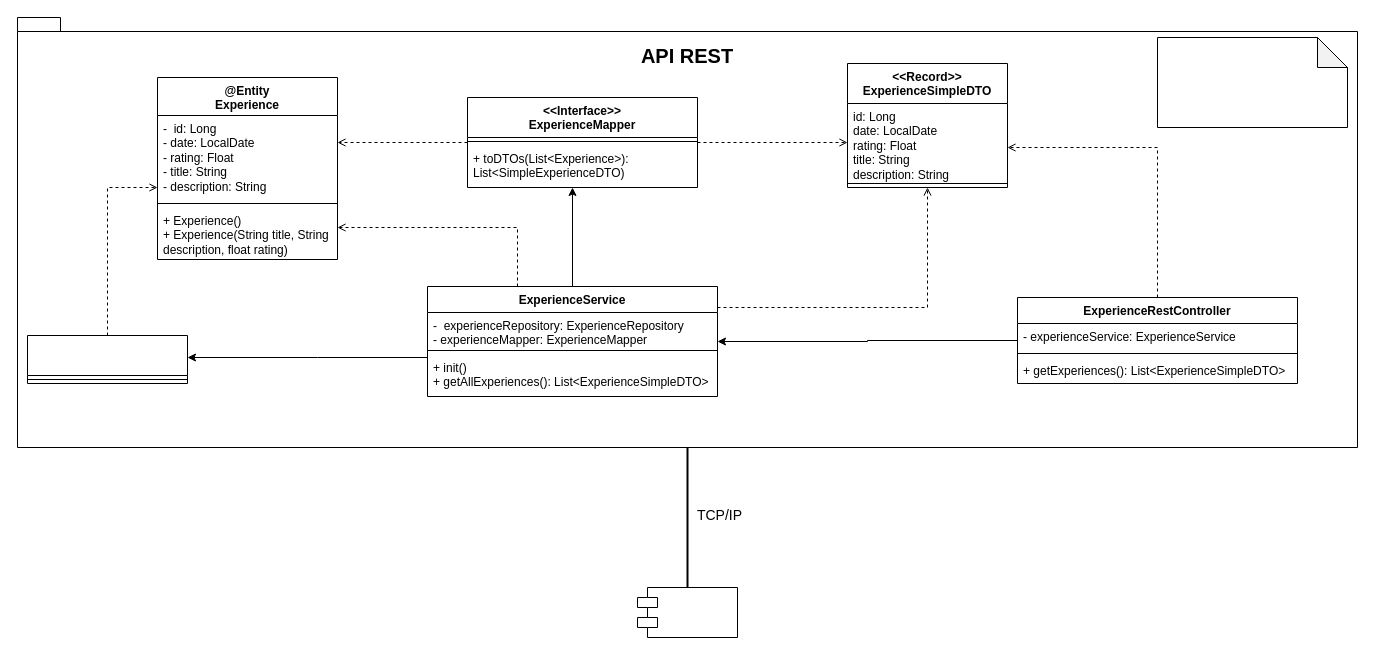
Some shapes in this 1375 by 655 pixel diagram are drawn without their labels. Here are the shapes that lost their labels. From the top down, the centre of each, then its label:
(x=1252, y=82): Getters and setters of entities are pressuposed
(x=107, y=359): <<Interface>> ExperienceRepository
(x=687, y=612): MySQL Database
